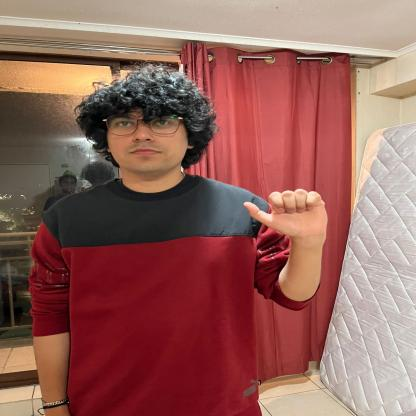E: (241, 184, 331, 239)
